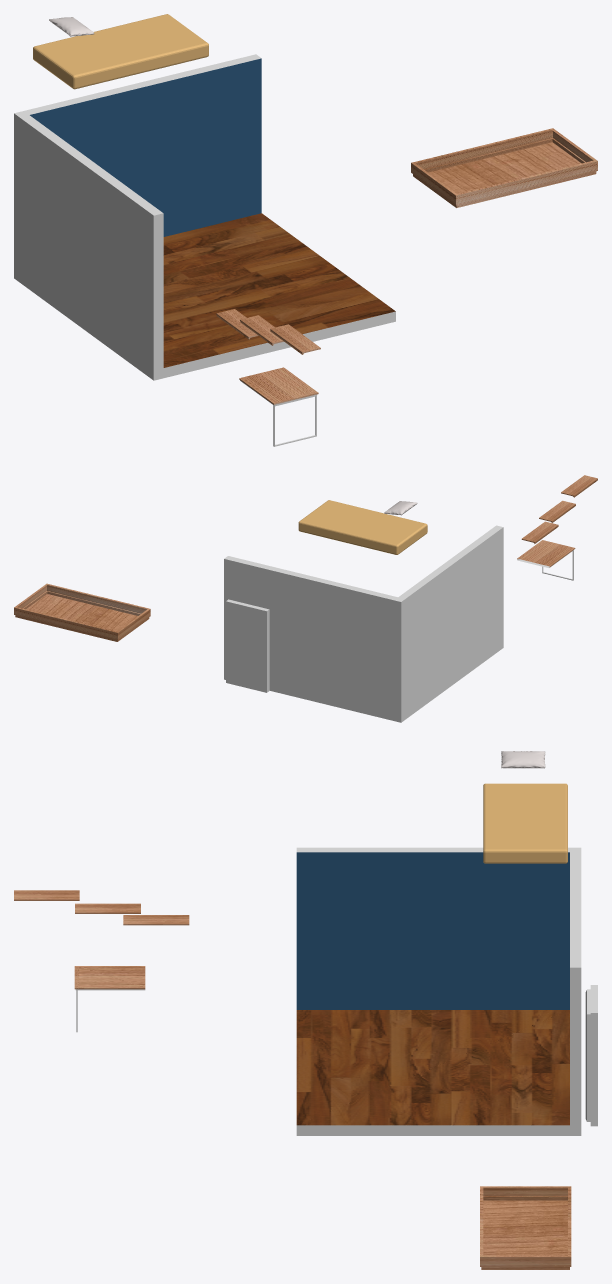
The model's file is isometric room.glb.
The picture shows the model from 3 angles, top to bottom: view 1: azimuth 30°, elevation 25°; view 2: azimuth 150°, elevation 25°; view 3: azimuth 270°, elevation 25°; orthographic projection. The views are drawn at different scales.
Parts seen in each view (by area): view 1: Cube, Cube.001, Cube.002, Cube.004, Cube.013; view 2: Cube, Cube.001, Cube.002, Cube.005, Cube.013, Cube.004; view 3: Cube, Cube.001, Cube.002, Cube.013, Cube.004, Cube.005, Cube.003.
Boxes of the visible parts, <box> form: Cube: <box>14,54,395,380</box>; Cube.001: <box>411,128,597,207</box>; Cube.002: <box>33,14,208,89</box>; Cube.004: <box>239,367,318,446</box>; Cube.013: <box>216,309,320,354</box>; Cube: <box>224,525,503,722</box>; Cube.001: <box>14,583,150,641</box>; Cube.002: <box>298,500,427,554</box>; Cube.005: <box>226,599,269,692</box>; Cube.013: <box>521,475,597,543</box>; Cube.004: <box>517,540,575,580</box>; Cube: <box>296,847,581,1135</box>; Cube.001: <box>480,1186,571,1269</box>; Cube.002: <box>483,783,567,863</box>; Cube.013: <box>14,890,189,925</box>; Cube.004: <box>74,966,145,1032</box>; Cube.005: <box>585,985,597,1126</box>; Cube.003: <box>501,751,545,768</box>.
Size of what is drawn, in the model's own units: 19.09 by 9.23 by 17.76.
Materials: 9 (2 with a texture image).
